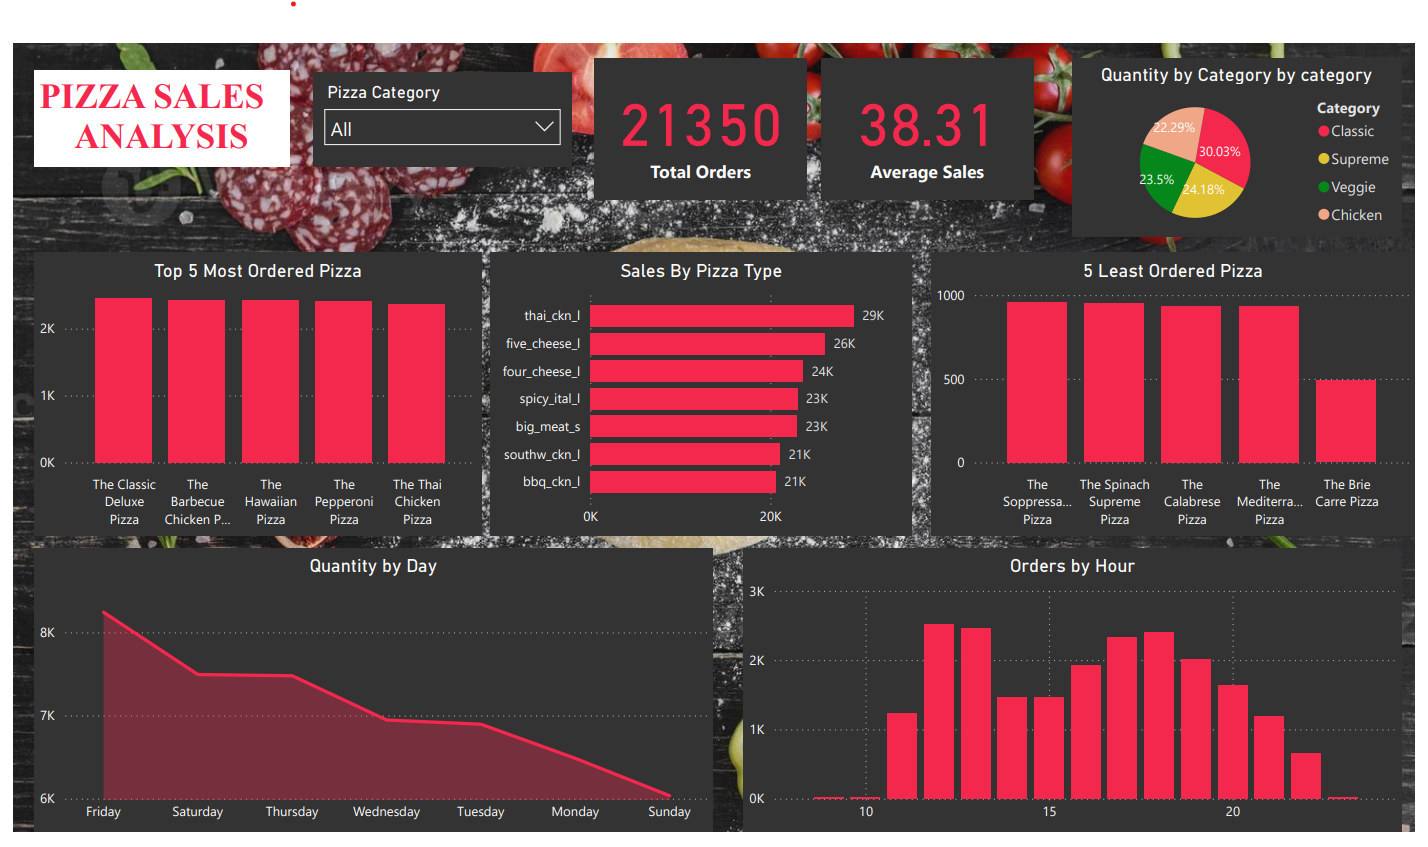

This screenshot's page, from the dashboard's own definition file:
{"tool":"powerbi","page":{"name":"Page 1","canvas":[1280,720],"ordinal":0},"visuals":[{"type":"clusteredColumnChart","title":"Orders per hour","fields":{"Category":["orders.order_hour"],"Y":["Count(orders.order_id)"]},"box":[666.9,461.1,601,259.3],"z":0},{"type":"stackedAreaChart","title":"Quantity by Day","fields":{"Category":["orders.day"],"Y":["Sum(order_details.quantity)"]},"box":[19.2,461.1,620.2,259.3],"z":1000},{"type":"card","fields":{"Values":["orders.Total_Orders"]},"box":[531,13.7,193.5,129],"z":2000},{"type":"clusteredColumnChart","title":"Top 5 Most Ordered Pizza","fields":{"Y":["order_details.Total_Orders_By_Pizza_Type"],"Category":["pizza_types.name"]},"box":[19.2,190.7,408.9,259.3],"z":3000},{"type":"clusteredColumnChart","title":"5 Least Ordered Pizza","fields":{"Y":["order_details.Total_Orders_By_Pizza_Type"],"Category":["pizza_types.name"]},"box":[838.4,190.7,441.9,259.3],"z":4000},{"type":"clusteredBarChart","title":"Sales By Pizza","fields":{"Category":["pizzas.pizza_id"],"Y":["order_details.Total_Sales_By_Pizza"]},"box":[436.4,190.7,384.2,259.3],"z":5000},{"type":"pieChart","fields":{"Category":["pizza_types.category"],"Y":["Sum(order_details.quantity)"]},"box":[967.4,13.7,300.5,163.3],"z":6000},{"type":"card","fields":{"Values":["order_details.Average_Sales"]},"box":[738.3,13.7,193.5,129],"z":7000},{"type":"slicer","fields":{"Values":["pizza_types.category"]},"box":[274.4,27.4,236,85.1],"z":8000},{"type":"textbox","box":[19.2,24.7,233.3,87.8],"z":9000}]}

Visuals, with their boxes on the page's 1280x720 design canvas (x1, y1, x2, y2). These are canvas units, not pixel positions in the 1428x847 screenshot, which may show the page scaled, cropped or inside an application window:
"Orders per hour" clusteredColumnChart: (667,461,1268,720)
"Quantity by Day" stackedAreaChart: (19,461,639,720)
card - orders.Total_Orders: (531,14,724,143)
"Top 5 Most Ordered Pizza" clusteredColumnChart: (19,191,428,450)
"5 Least Ordered Pizza" clusteredColumnChart: (838,191,1280,450)
"Sales By Pizza" clusteredBarChart: (436,191,821,450)
pieChart - pizza_types.category x Sum(order_details.quantity): (967,14,1268,177)
card - order_details.Average_Sales: (738,14,932,143)
slicer - pizza_types.category: (274,27,510,112)
textbox: (19,25,252,112)
